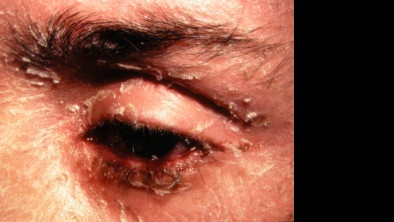SJS-TEN: (0, 0, 294, 222)
